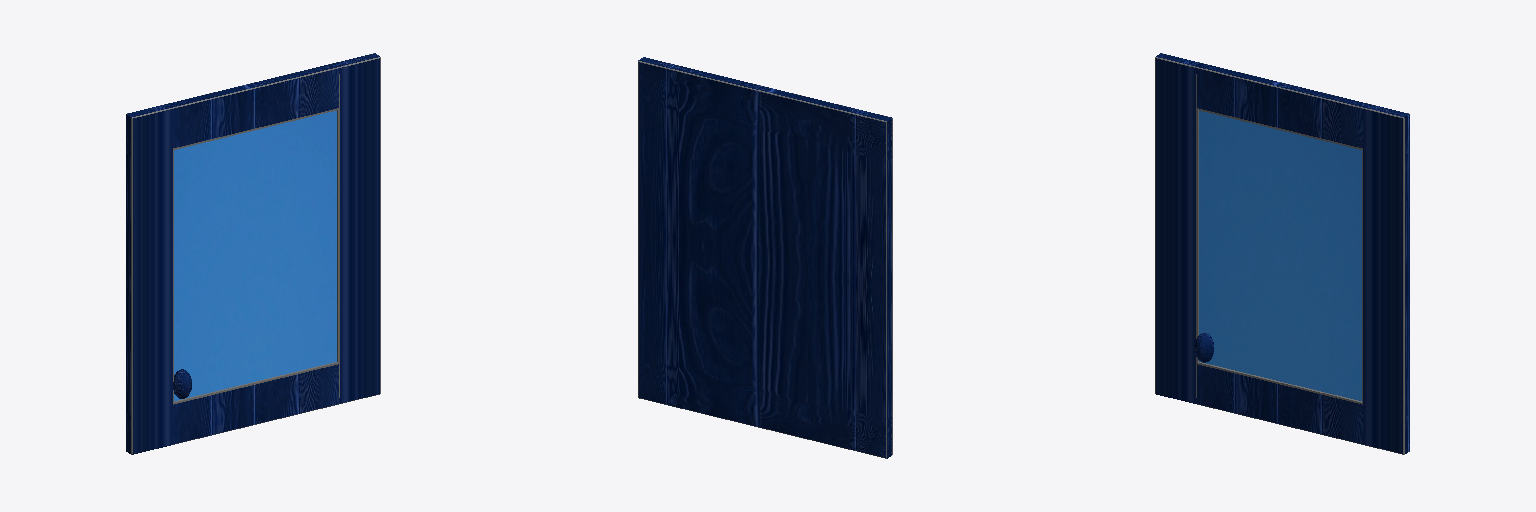
3 renders of one model, left to right at view 1: azimuth 30°, elevation 25°; view 2: azimuth 150°, elevation 25°; view 3: azimuth 330°, elevation 25°, orthographic.
Parts seen in each view (by area): view 1: Sideboard_big1:Sideboard_big1:T_ren_W_rfel; view 2: Sideboard_big1:Sideboard_big1:T_ren_W_rfel; view 3: Sideboard_big1:Sideboard_big1:T_ren_W_rfel.
Boxes of the visible parts, x1,y1,x2,y2 form: Sideboard_big1:Sideboard_big1:T_ren_W_rfel: [126, 53, 380, 454]; Sideboard_big1:Sideboard_big1:T_ren_W_rfel: [638, 57, 892, 458]; Sideboard_big1:Sideboard_big1:T_ren_W_rfel: [1155, 53, 1409, 454].
Bounding box in the file's own units: 3.83 × 4.95 × 0.3021.
Materials: 3 (2 with a texture image).